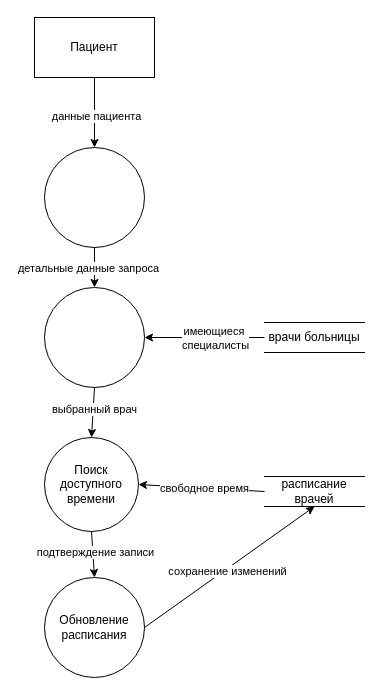
This 382x695 diagram has some shape labels left out. The box of each missing label's shape, as (x1, y1, x2, y2) in pixels:
Выбор специалиста: (44, 286, 144, 388)
Проверка данных пациента: (44, 146, 144, 248)
